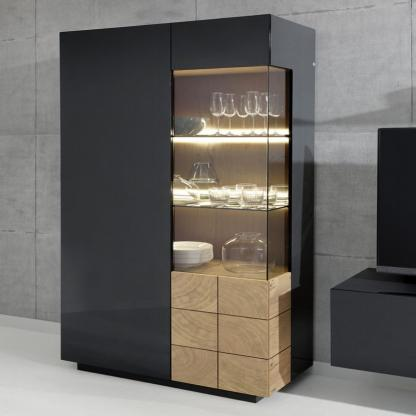Cupboard: (58, 14, 316, 402)
